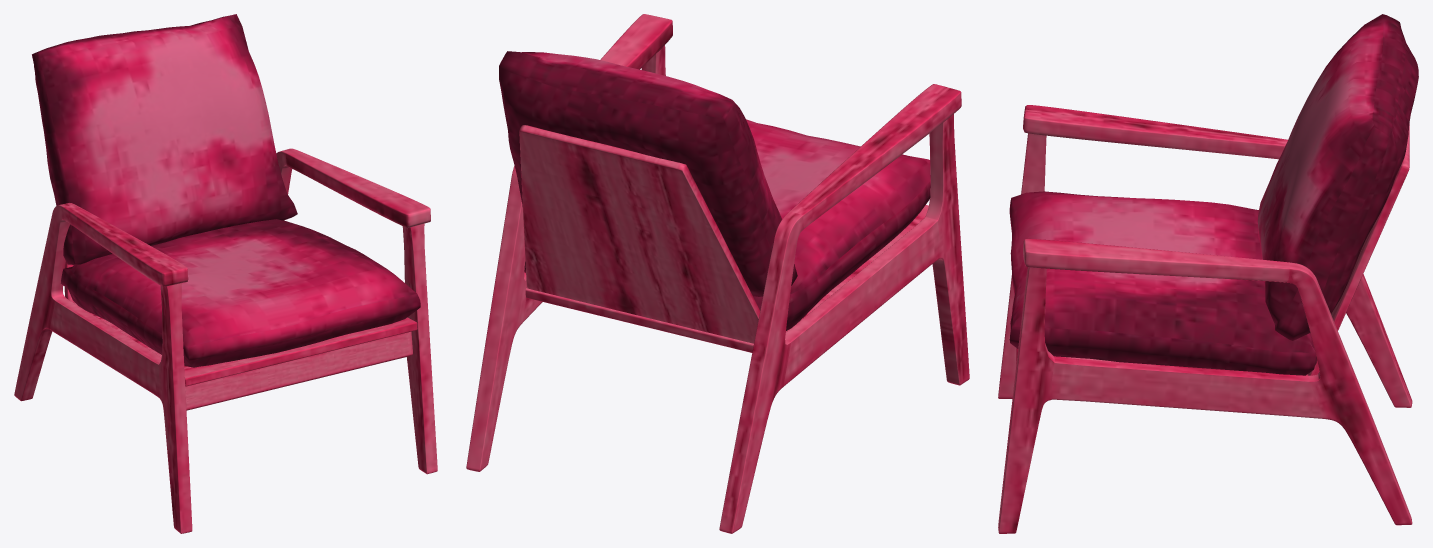
The model's file is nyb_gems_chair.glb.
The picture shows the model from 3 angles, left to right: view 1: azimuth 30°, elevation 25°; view 2: azimuth 150°, elevation 25°; view 3: azimuth 270°, elevation 25°; orthographic projection. The views are drawn at different scales.
Parts seen in each view (by area): view 1: modern_arm_chair_01; view 2: modern_arm_chair_01; view 3: modern_arm_chair_01.
Boxes of the visible parts, x1,y1,x2,y2 form: modern_arm_chair_01: [14, 14, 437, 533]; modern_arm_chair_01: [466, 14, 969, 533]; modern_arm_chair_01: [998, 14, 1418, 533].
Size of the model in its own units: 0.8203 by 1.02 by 0.9866.
Materials: 2 (2 with a texture image).
